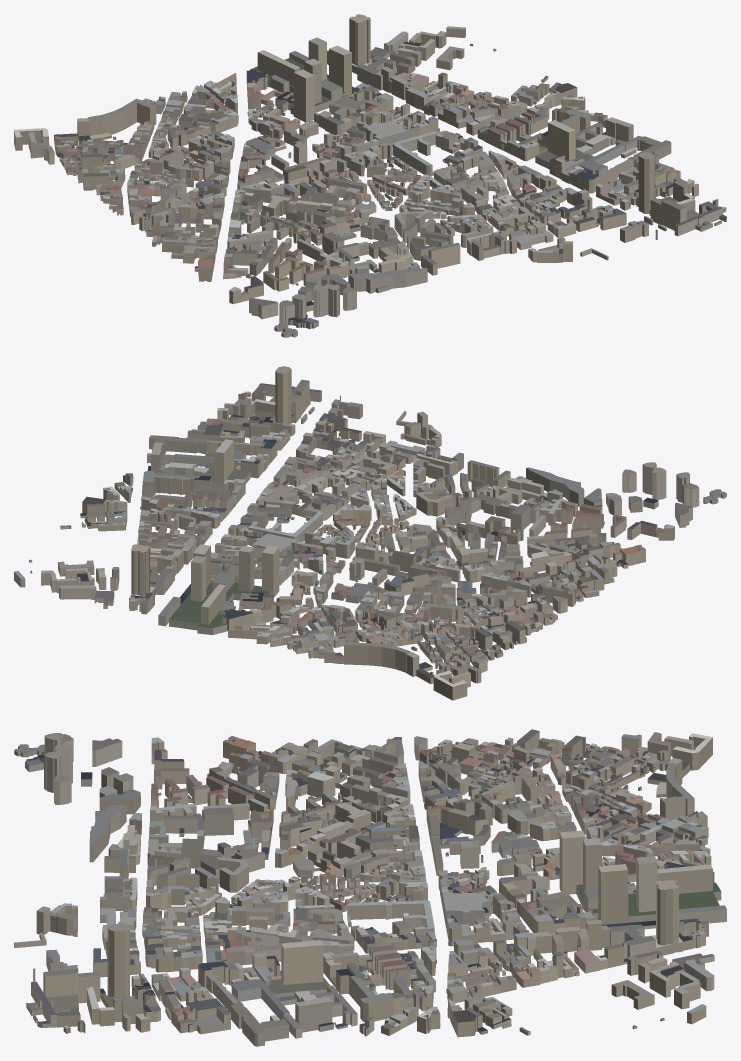
The picture shows the model from 3 angles, top to bottom: view 1: azimuth 30°, elevation 25°; view 2: azimuth 150°, elevation 25°; view 3: azimuth 270°, elevation 25°; orthographic projection. The views are drawn at different scales.
Parts seen in each view (by area): view 1: tuile; view 2: tuile; view 3: tuile.
Part boxes in pixels (x1,y1,x2,y2): tuile: (14,14,726,337); tuile: (14,366,726,700); tuile: (14,729,726,1046).
Size of the model in its own units: 1063 by 131 by 1059.
